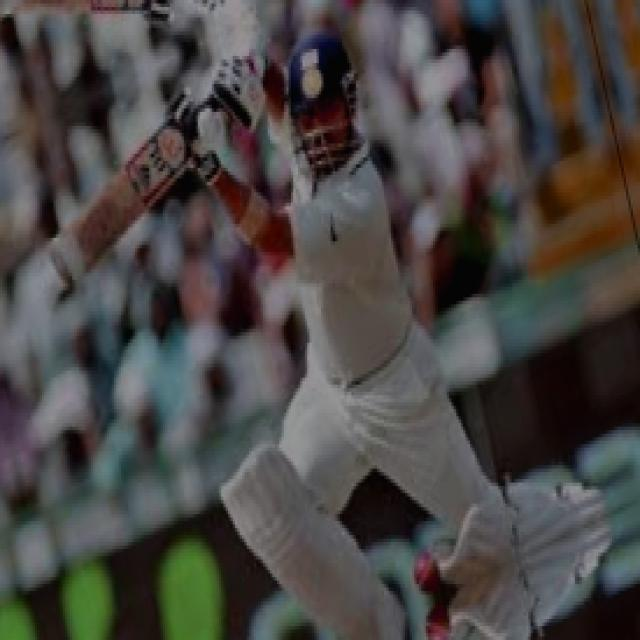bat: (40, 123, 188, 295)
toe: (42, 244, 75, 294)
